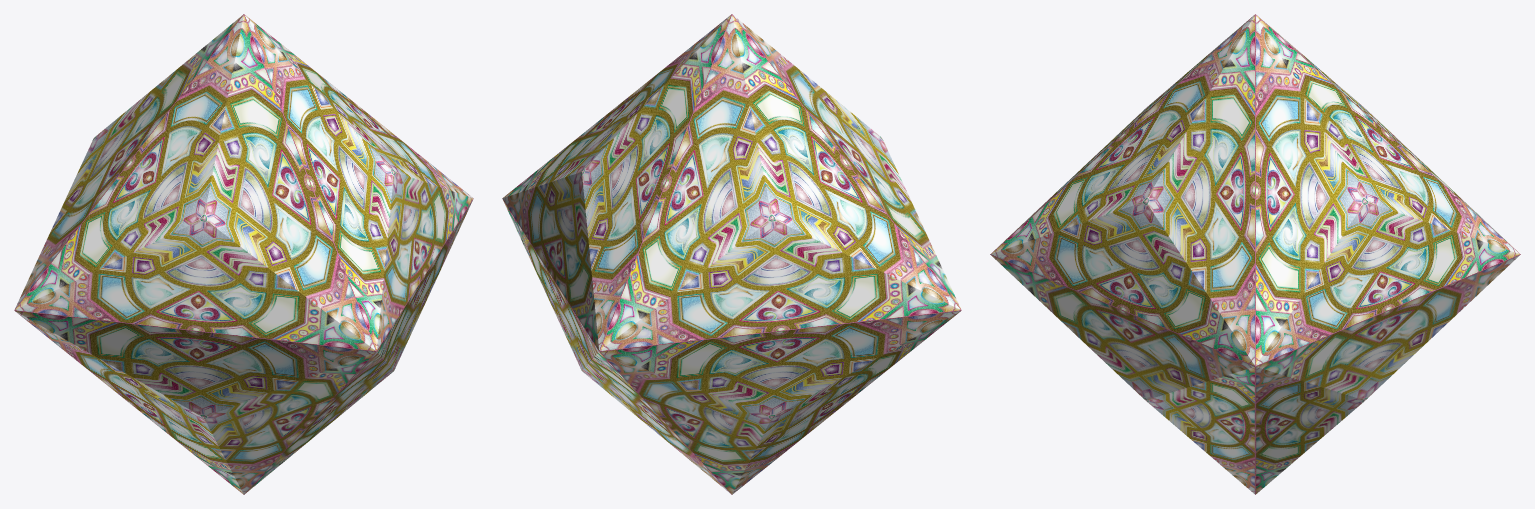
File: 6TriakisOctahedron.obj
3 renders of one model, left to right at view 1: azimuth 30°, elevation 25°; view 2: azimuth 150°, elevation 25°; view 3: azimuth 270°, elevation 25°, orthographic.
Size of the model in its own units: 4.83 by 4.83 by 4.83.
Materials: 1 (1 with a texture image).
